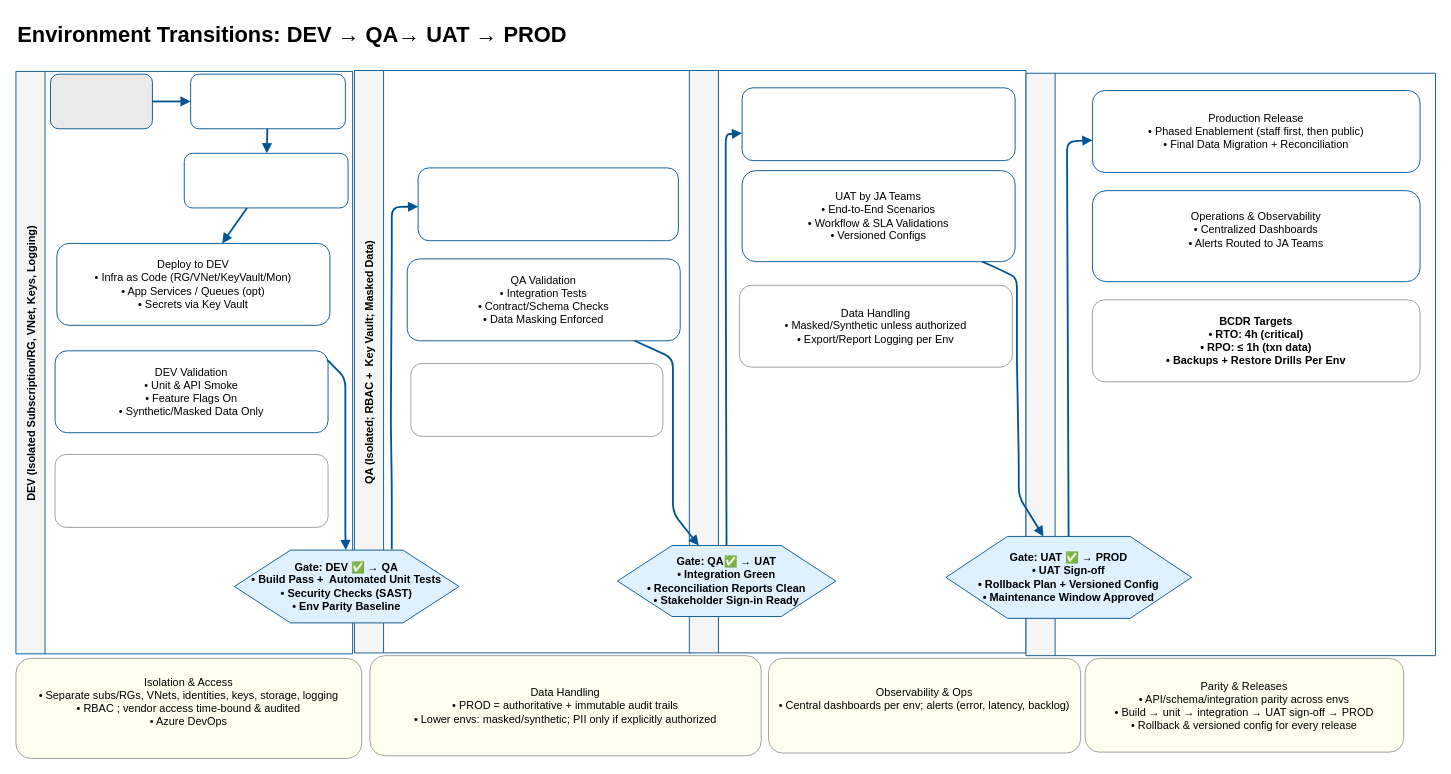
Some shapes in this 1451 by 774 pixel diagram are drawn without their labels. Here are the shapes that lost their labels. From the top down, the box of each, then its label:
(50, 73, 152, 129): Source / Infra as Code
(190, 73, 345, 129): Build & Static Analysis • Compile, Unit Tests • SAST / Lint
(741, 87, 1015, 161): Deploy to UAT • Parity with PROD (APIs, Schemas, Integrations)
(183, 152, 348, 208): Versioned Artifact + Config • Container/Image • Schema Migrations
(417, 167, 678, 241): Deploy to QA • Like‑for‑Like with DEV • Integration Endpoints Staged
(688, 70, 1026, 653): UAT (Parity, Integration Validations, Sign‑off)
(1025, 72, 1436, 656): PROD (Authoritative Data, Immutable Audit Trails)
(410, 363, 663, 436): Ops Readiness • Runbooks Draft • Alert Rules (error rate, latency, backlog)
(54, 454, 328, 527): Observability • Azure Monitor Dashboards • Logs per Env; Alerts (errors/latency)
